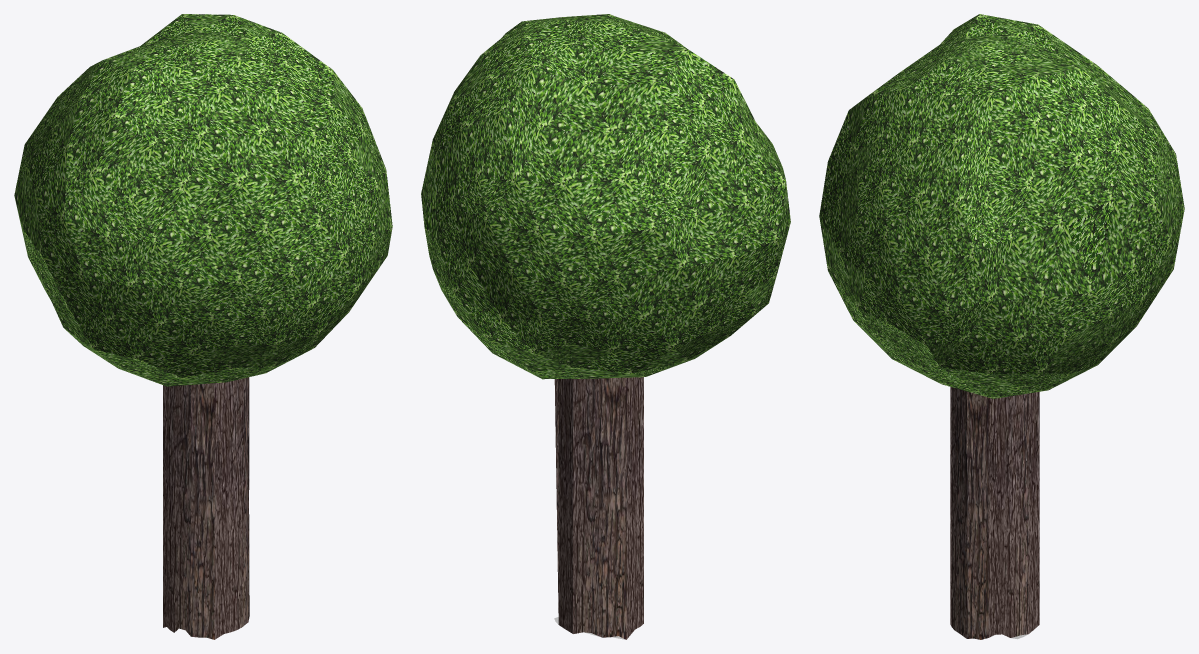
The model's file is Tree.obj.
3 renders of one model, left to right at view 1: azimuth 30°, elevation 25°; view 2: azimuth 150°, elevation 25°; view 3: azimuth 270°, elevation 25°, orthographic. The views are drawn at different scales.
Parts seen in each view (by area): view 1: Icosphere, Cylinder_Cylinder.001; view 2: Icosphere, Cylinder_Cylinder.001; view 3: Icosphere, Cylinder_Cylinder.001.
Part boxes in pixels (left/top/right/bottom): Icosphere: left=14, top=14, right=392, bottom=386; Cylinder_Cylinder.001: left=163, top=377, right=249, bottom=639; Icosphere: left=421, top=14, right=790, bottom=379; Cylinder_Cylinder.001: left=554, top=377, right=643, bottom=639; Icosphere: left=819, top=14, right=1184, bottom=398; Cylinder_Cylinder.001: left=950, top=387, right=1039, bottom=639.
Size of the model in its own units: 9.07 by 15.31 by 8.65.
